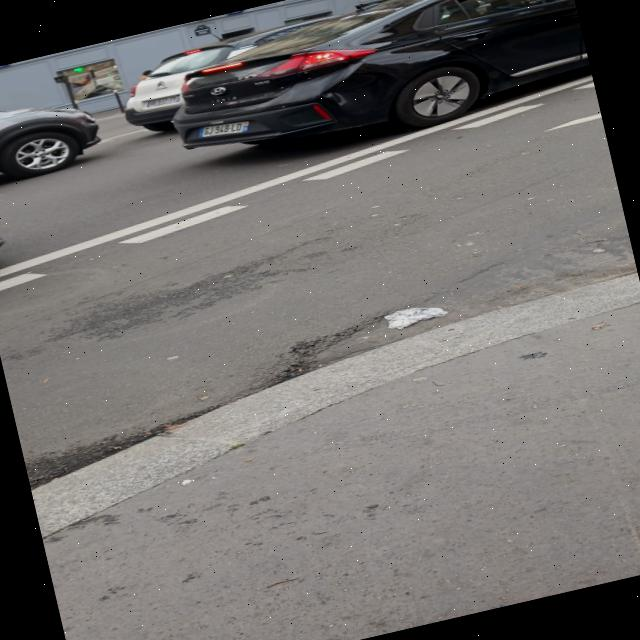Autre: (184, 110, 254, 147)
